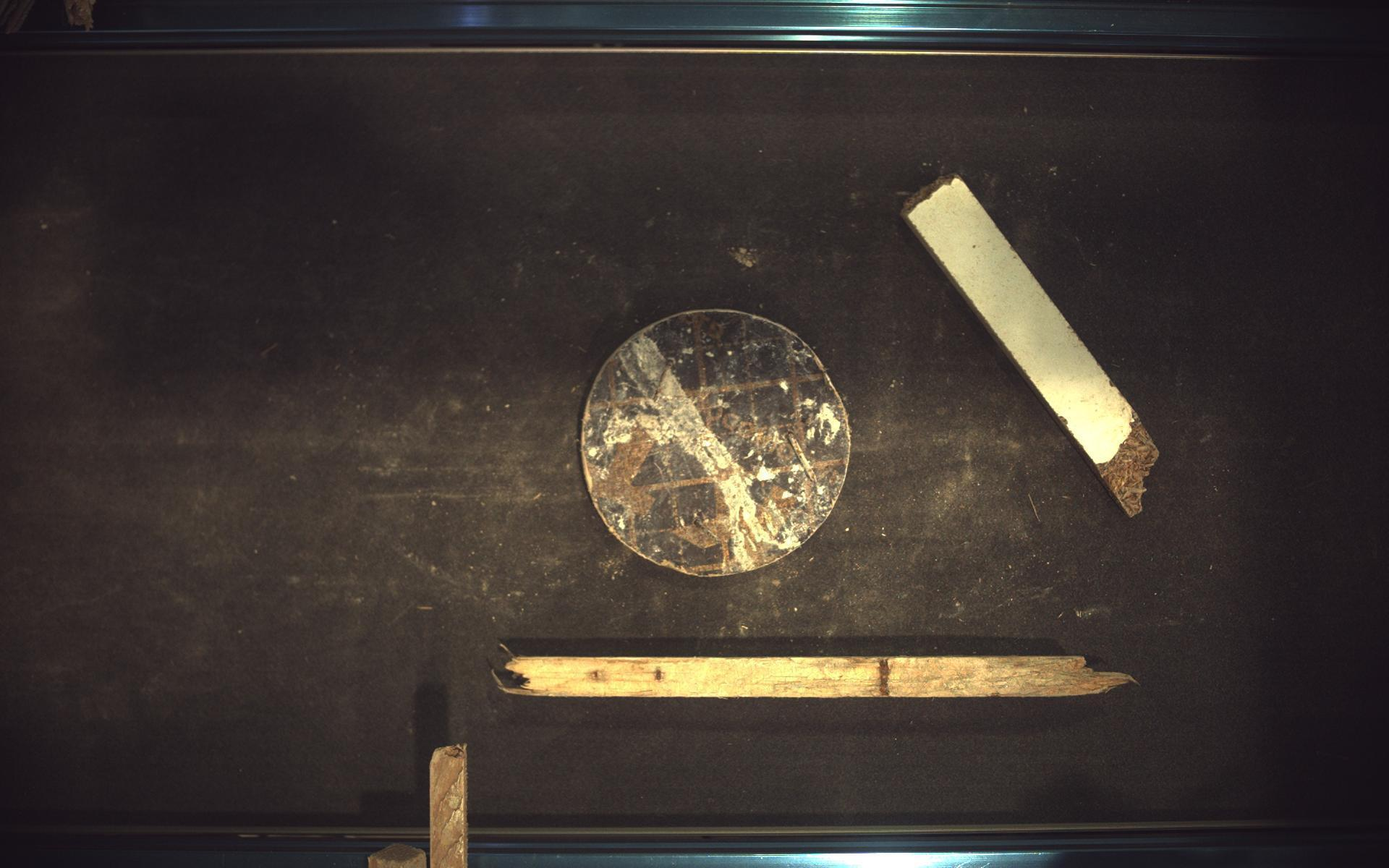wood: (904, 175, 1162, 517), (582, 309, 852, 577), (495, 656, 1137, 699)
